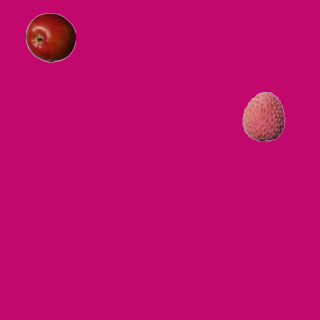Apple Braeburn: (25, 12, 75, 62)
Lychee: (238, 91, 288, 141)
